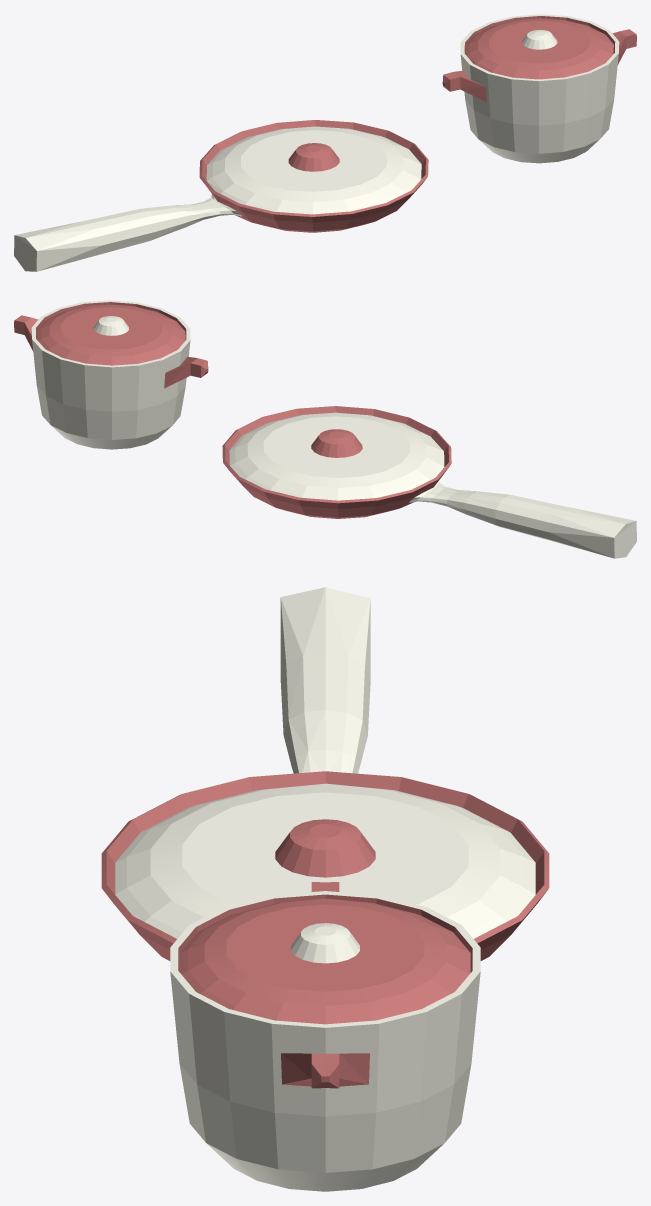
The model's file is Tachos.FBX.
The picture shows the model from 3 angles, top to bottom: view 1: azimuth 30°, elevation 25°; view 2: azimuth 150°, elevation 25°; view 3: azimuth 270°, elevation 25°; orthographic projection. The views are drawn at different scales.
Visible parts, largest first — view 1: Cylinder005, Cylinder003, Cylinder001, Cylinder004; view 2: Cylinder005, Cylinder003, Cylinder001, Cylinder004; view 3: Cylinder003, Cylinder005, Cylinder004, Cylinder001.
Boxes of the visible parts, x1,y1,x2,y2 form: Cylinder005: (206, 126, 421, 214); Cylinder003: (442, 14, 636, 163); Cylinder001: (14, 120, 428, 271); Cylinder004: (465, 18, 613, 79); Cylinder005: (229, 412, 444, 500); Cylinder003: (14, 300, 208, 449); Cylinder001: (222, 406, 636, 558); Cylinder004: (37, 304, 185, 365); Cylinder003: (170, 882, 480, 1191); Cylinder005: (115, 783, 535, 938); Cylinder004: (180, 898, 470, 1024); Cylinder001: (101, 587, 549, 960).
Size of the model in its own units: 222 by 38.93 by 70.59.
1 material, 1 textured.
